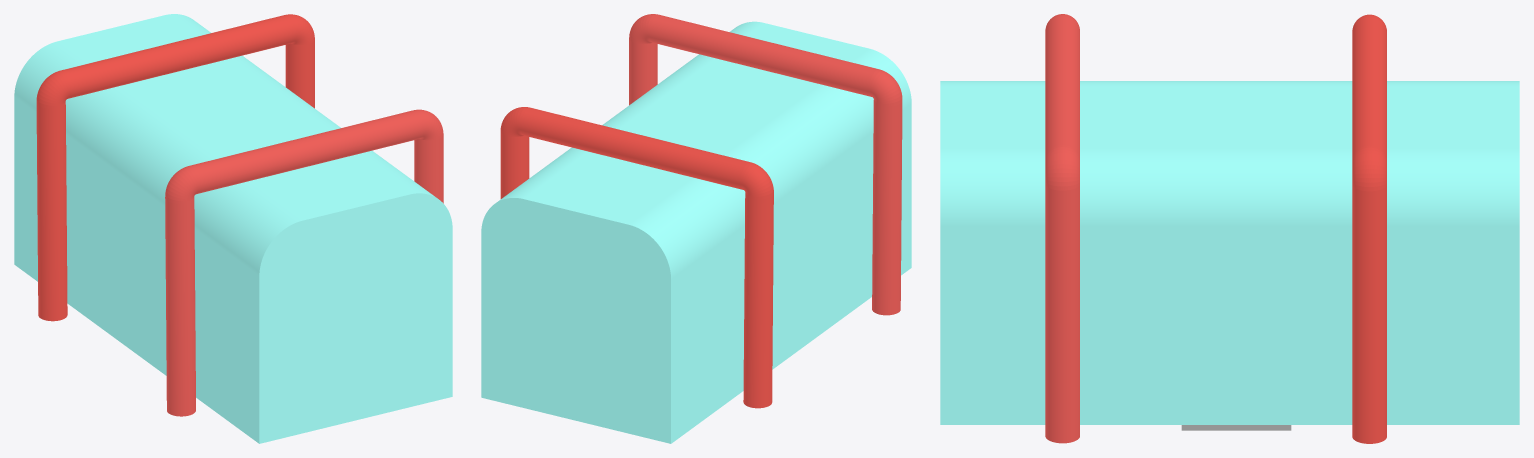
3 renders of one model, left to right at view 1: azimuth 30°, elevation 25°; view 2: azimuth 150°, elevation 25°; view 3: azimuth 270°, elevation 25°, orthographic. The views are drawn at different scales.
Parts seen in each view (by area): view 1: Cube.001, Cube002, Cube001; view 2: Cube.001, Cube002, Cube001; view 3: Cube.001, Cube002, Cube001, Cube.
Part boxes in pixels (left/top/right/bottom): Cube.001: left=14, top=14, right=452, bottom=443; Cube002: left=36, top=14, right=314, bottom=321; Cube001: left=165, top=109, right=443, bottom=416; Cube.001: left=481, top=21, right=911, bottom=443; Cube002: left=500, top=107, right=773, bottom=408; Cube001: left=629, top=14, right=902, bottom=315; Cube.001: left=940, top=81, right=1519, bottom=424; Cube002: left=1352, top=14, right=1386, bottom=443; Cube001: left=1045, top=14, right=1079, bottom=443; Cube: left=1181, top=425, right=1291, bottom=430.
Size of the model in its own units: 6.87 by 6.04 by 10.57.
